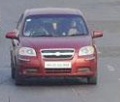car: (4, 8, 104, 87)
